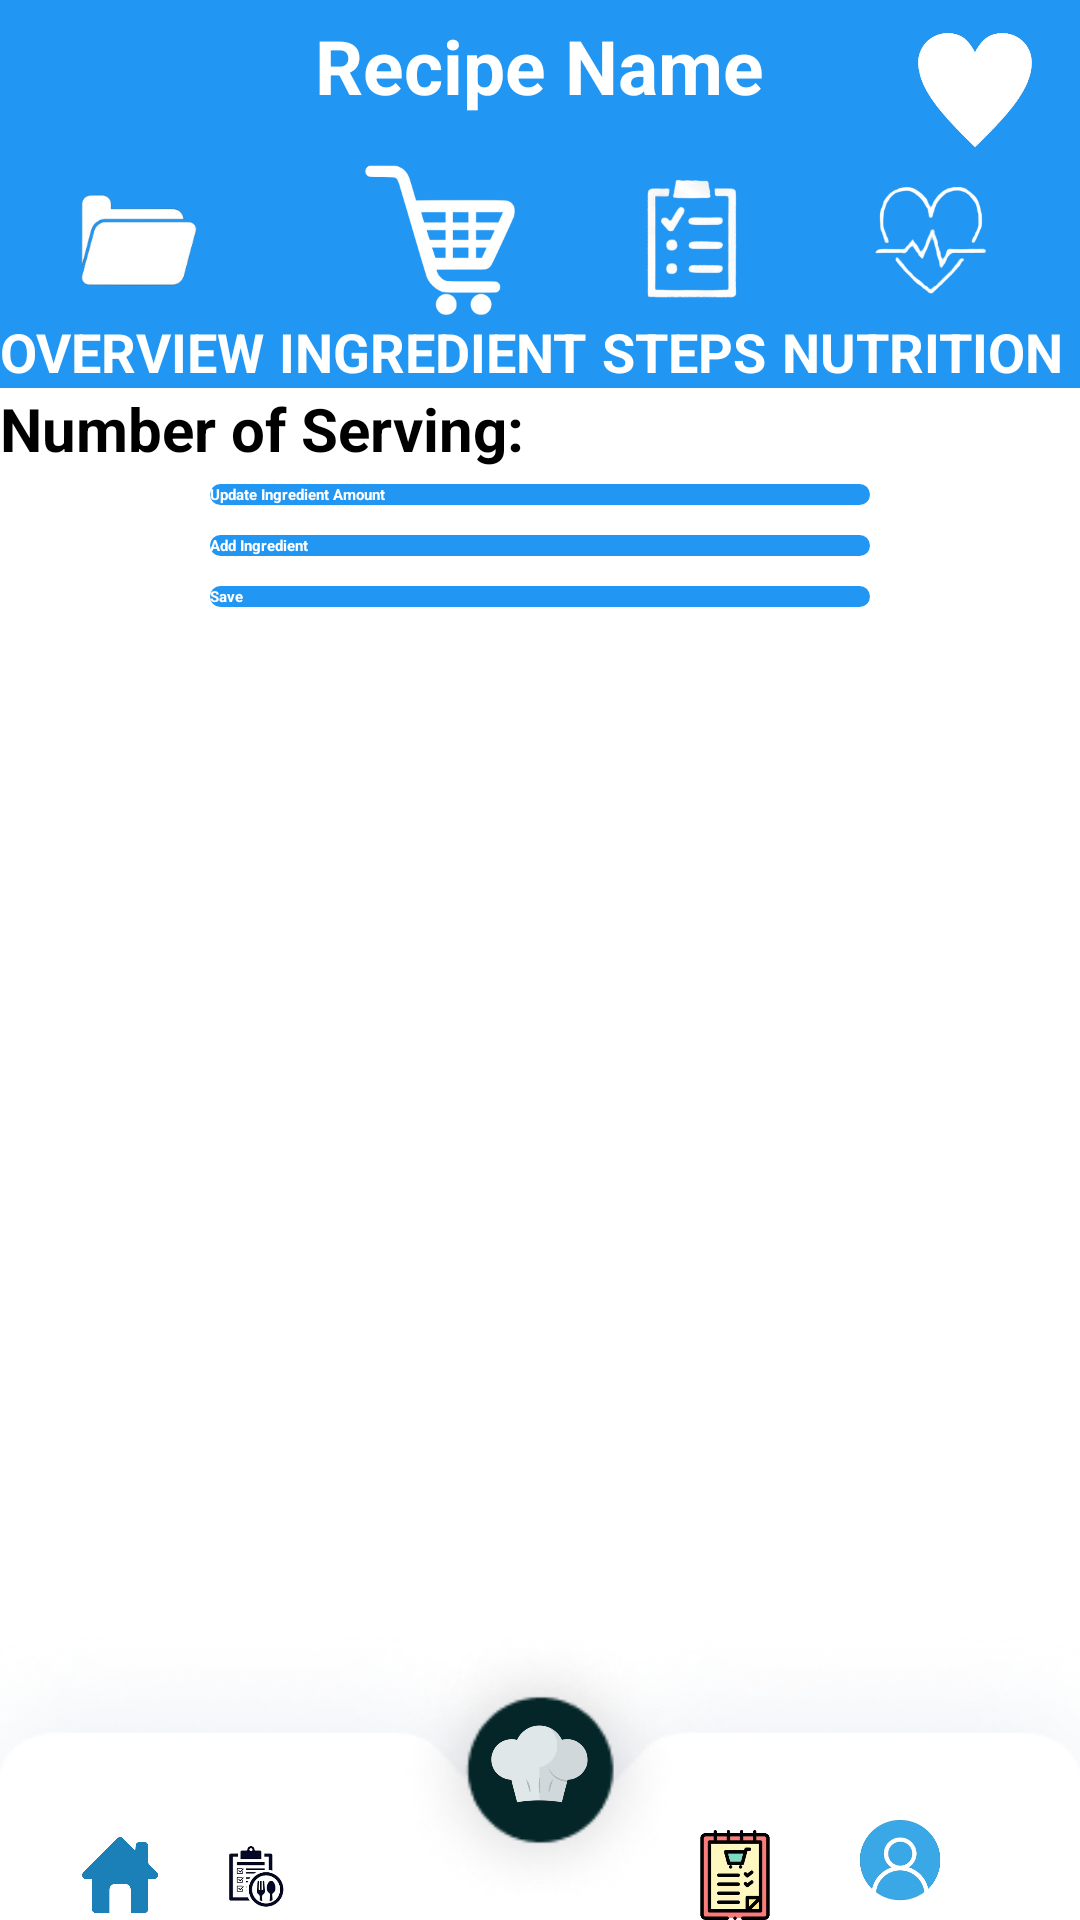

Where icons sit on this 1080×1920 app screen, as (left=x1, top=y1, right=x2, bottom=y2):
chef hat: (left=465, top=1696, right=614, bottom=1833)
grocery list: (left=700, top=1830, right=770, bottom=1920)
